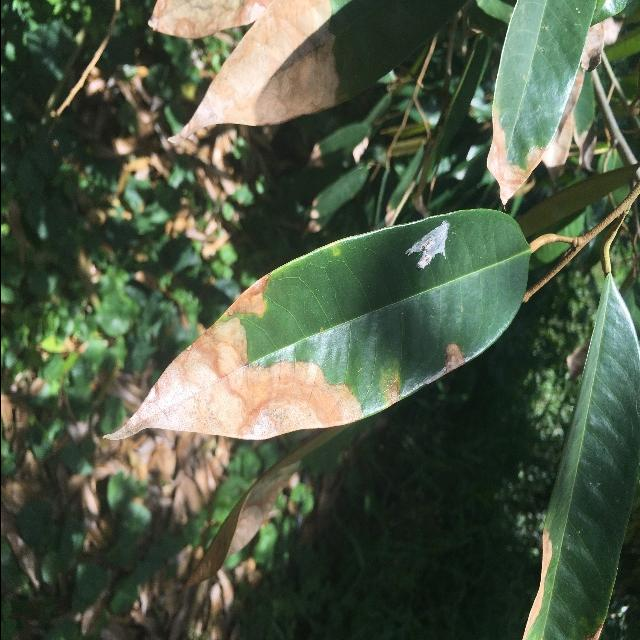Leaf Blight: (99, 205, 533, 449)
